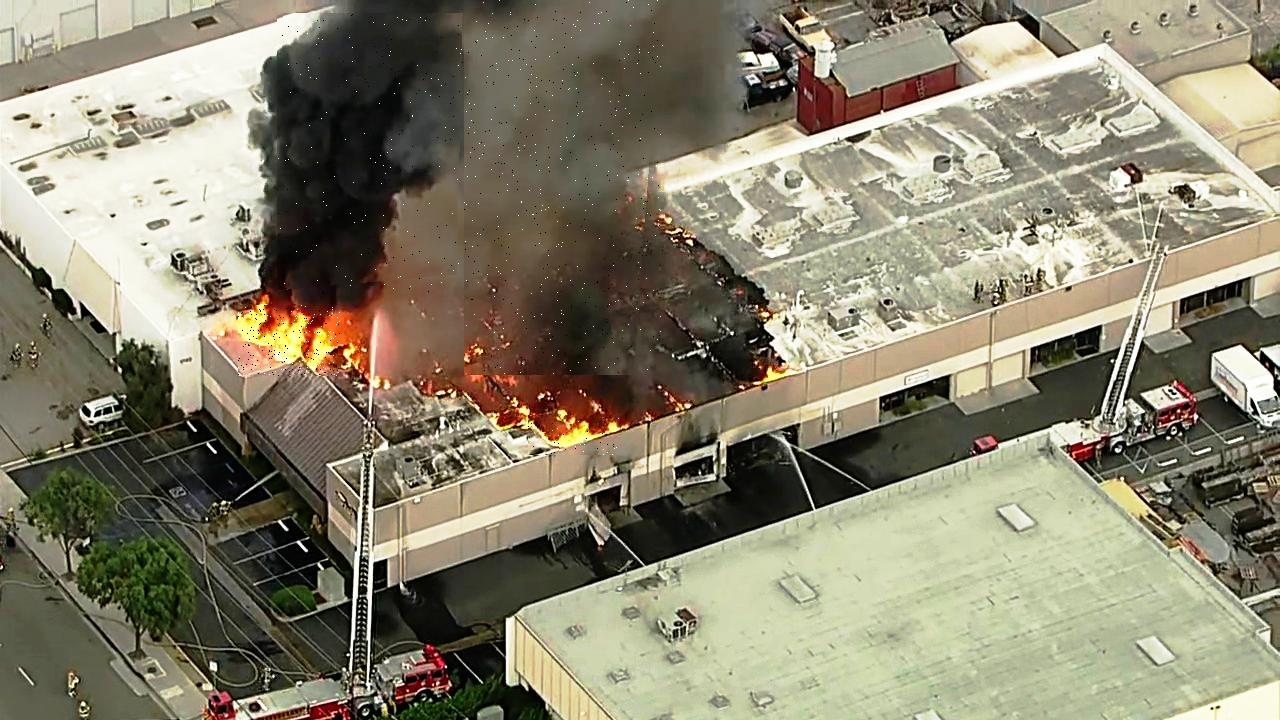fire: (239, 305, 341, 376), (529, 415, 625, 455)
smoke: (465, 0, 664, 375), (277, 14, 463, 294)
